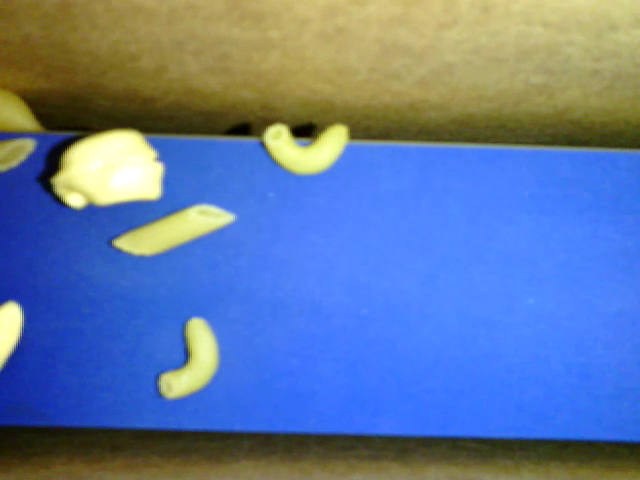elbow: (156, 317, 220, 400), (261, 121, 349, 175)
penne: (109, 203, 237, 258), (1, 137, 37, 173)
tortellini: (52, 129, 165, 208)
